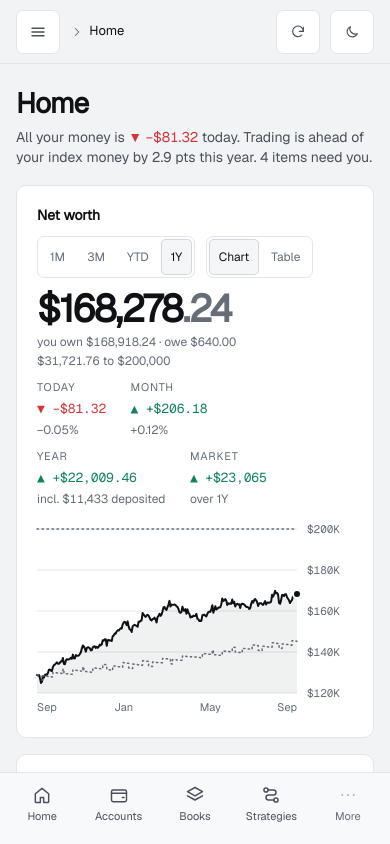
Test: shell › closes the "More" sheet on navigating to one of its pages
Click the button "More".
click(348, 804)  # box 310,779 -> 386,830
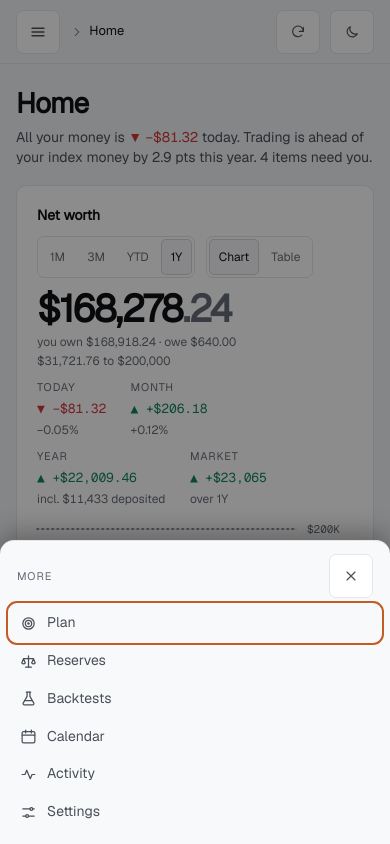
Click the link "Plan".
click(48, 623)  # box 20,614 -> 76,632
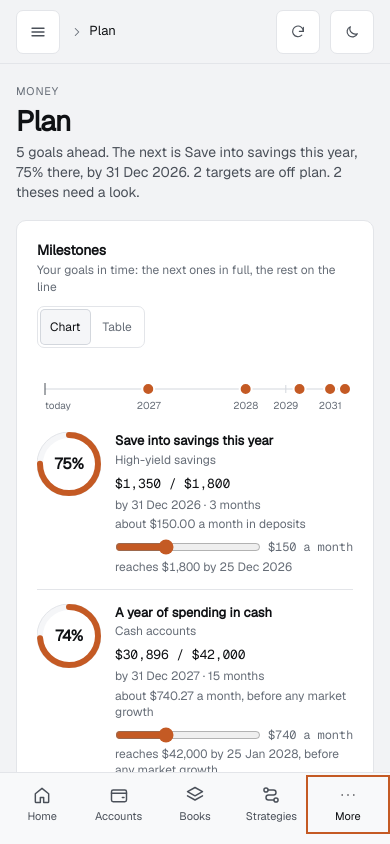
Check: the heading "Plan" is shown, box 16,103 -> 70,139
Check: the button "More" is collapsed, box 310,779 -> 386,830
